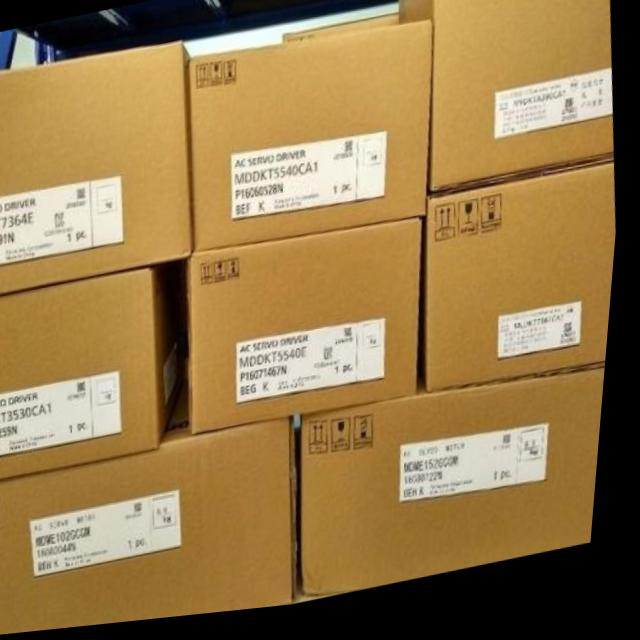box: (0, 384, 307, 637), (307, 378, 612, 605), (189, 30, 434, 254), (189, 230, 427, 438), (0, 45, 196, 294), (431, 168, 621, 402), (399, 0, 617, 200), (0, 267, 185, 483), (284, 22, 401, 52)
